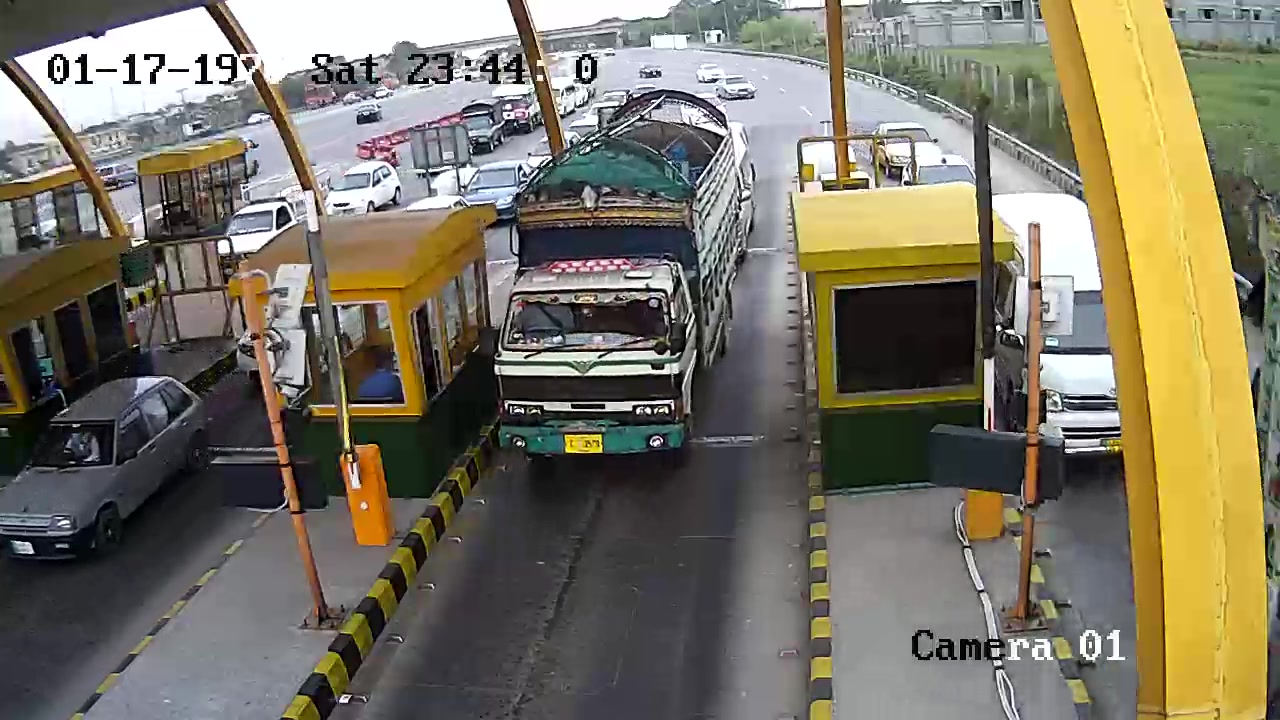F5: (498, 89, 753, 468)
